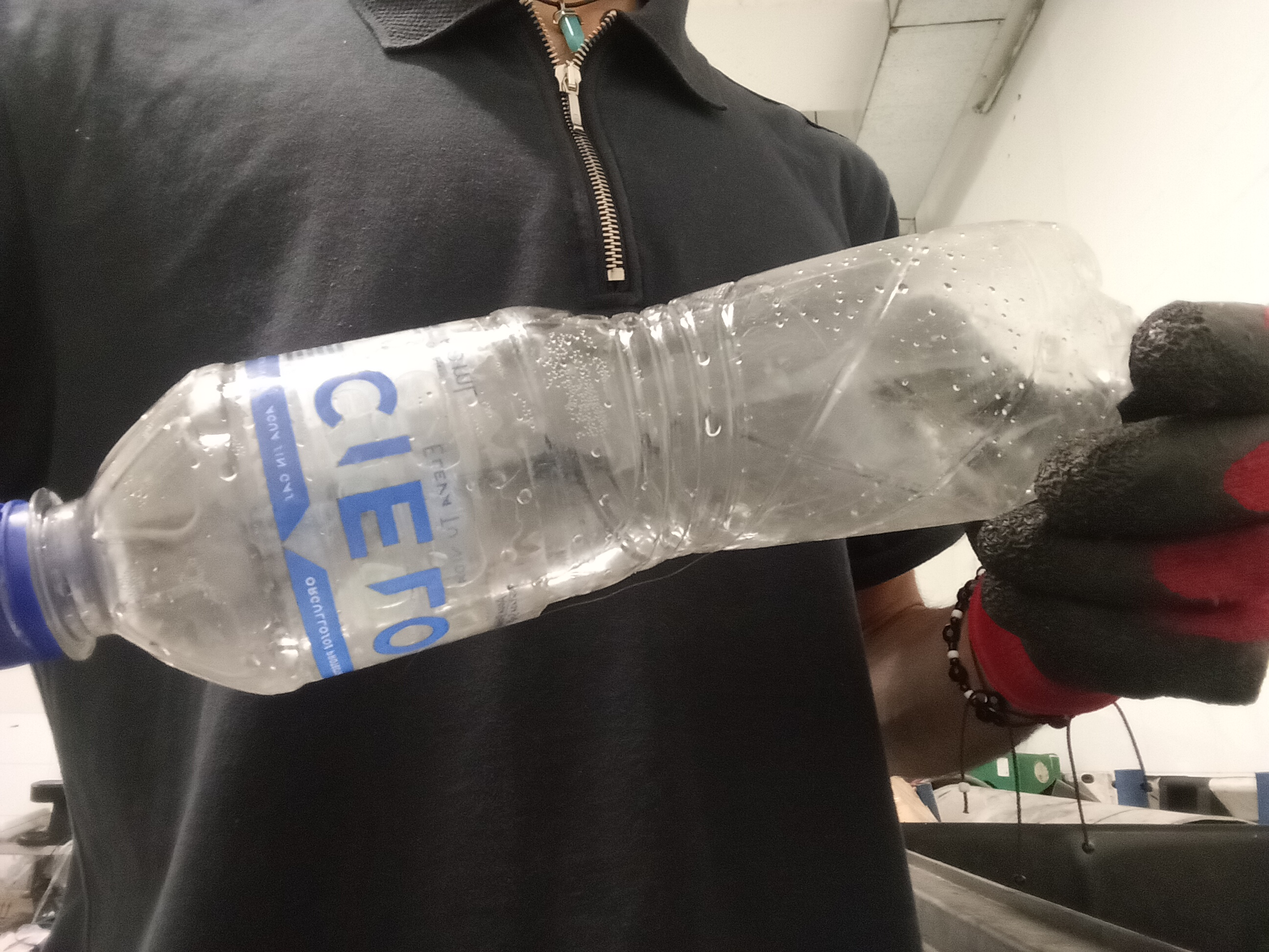Plastico: (0, 222, 1138, 697)
